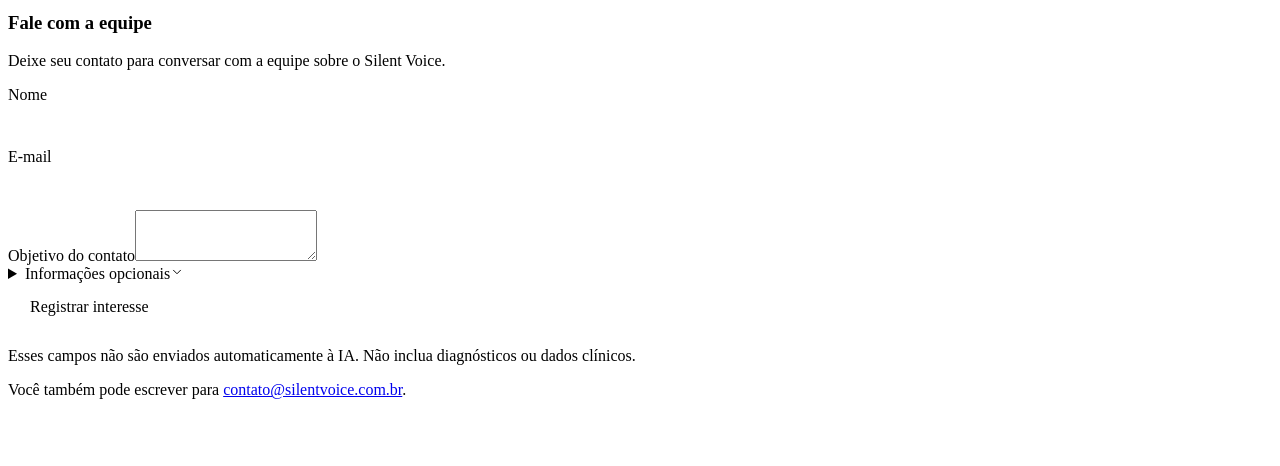
Scenario: explicit lead registration › rejects a blank receipt identifier even when the server returns 201
The image size is (1280, 466).
Type "Maria Silva" into the field labelled "Nome".
click(640, 126); type("Maria Silva")  # box [8,104,1272,148]
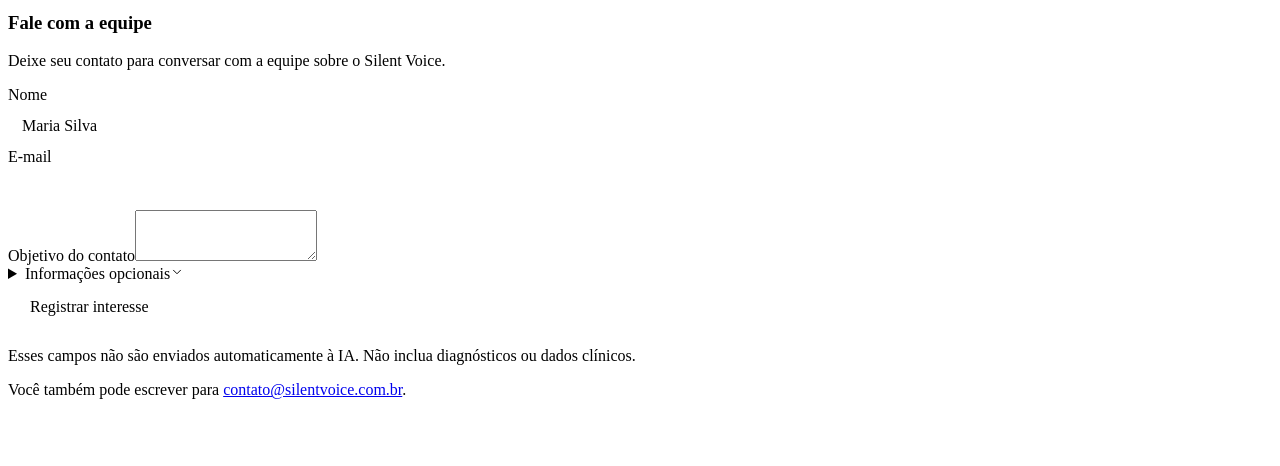
Type "maria@example.com" into the field labelled "E-mail".
click(640, 188); type("maria@example.com")  # box [8,166,1272,210]
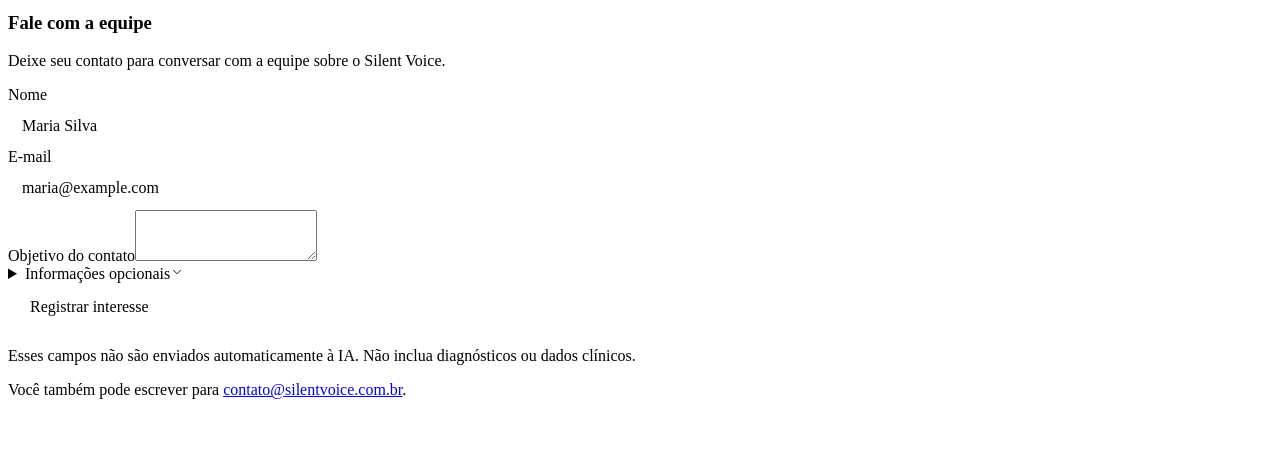
Type "Quero conhecer o dispositivo." into the text box labelled "Objetivo do contato".
click(226, 236); type("Quero conhecer o dispositivo.")  # box [135,210,317,261]
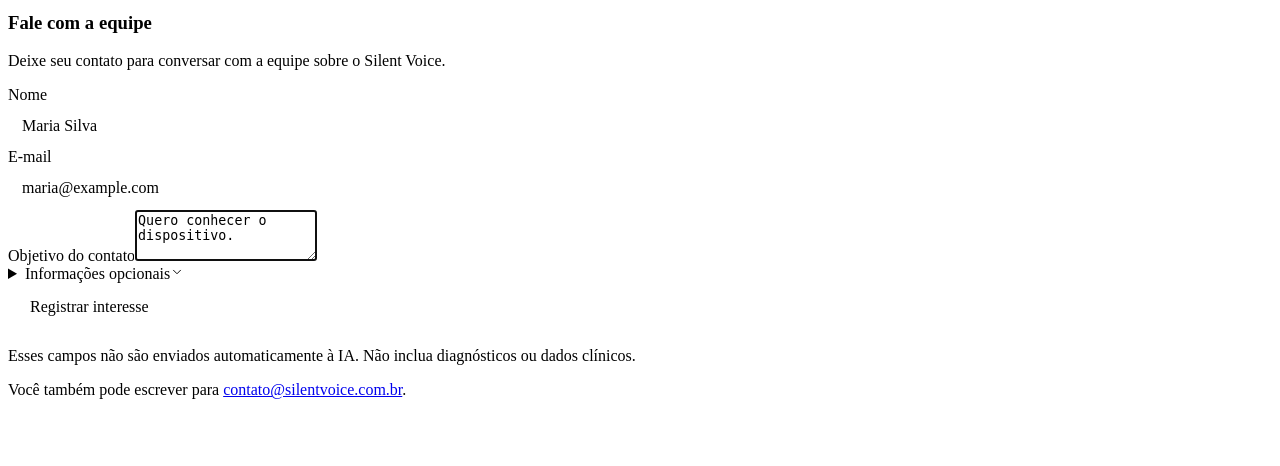
Click the button "Registrar interesse".
click(89, 307)  # box [8,283,171,331]
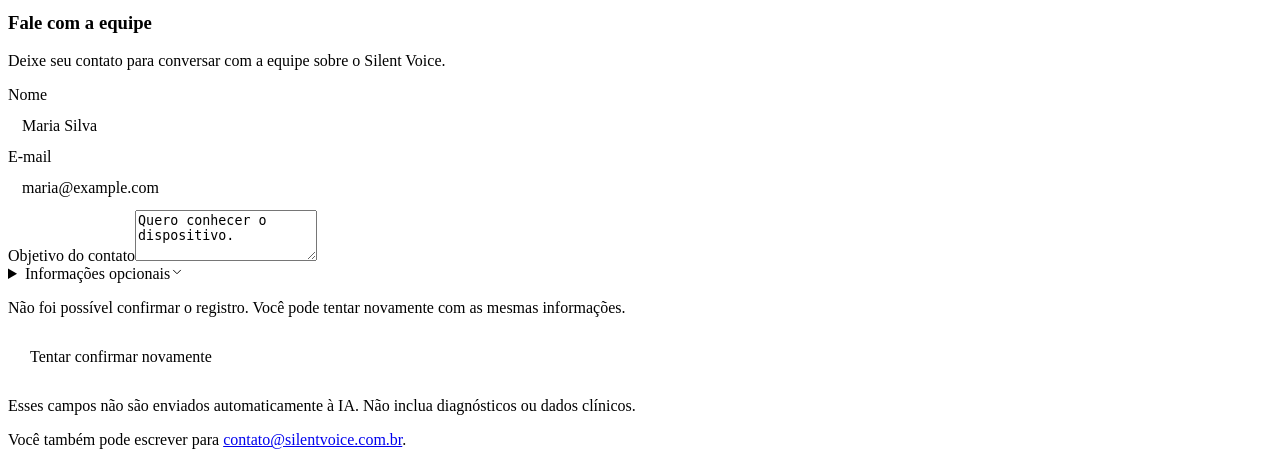
Check: the message shows "Não foi possível confirmar", box [8,299,626,316]
